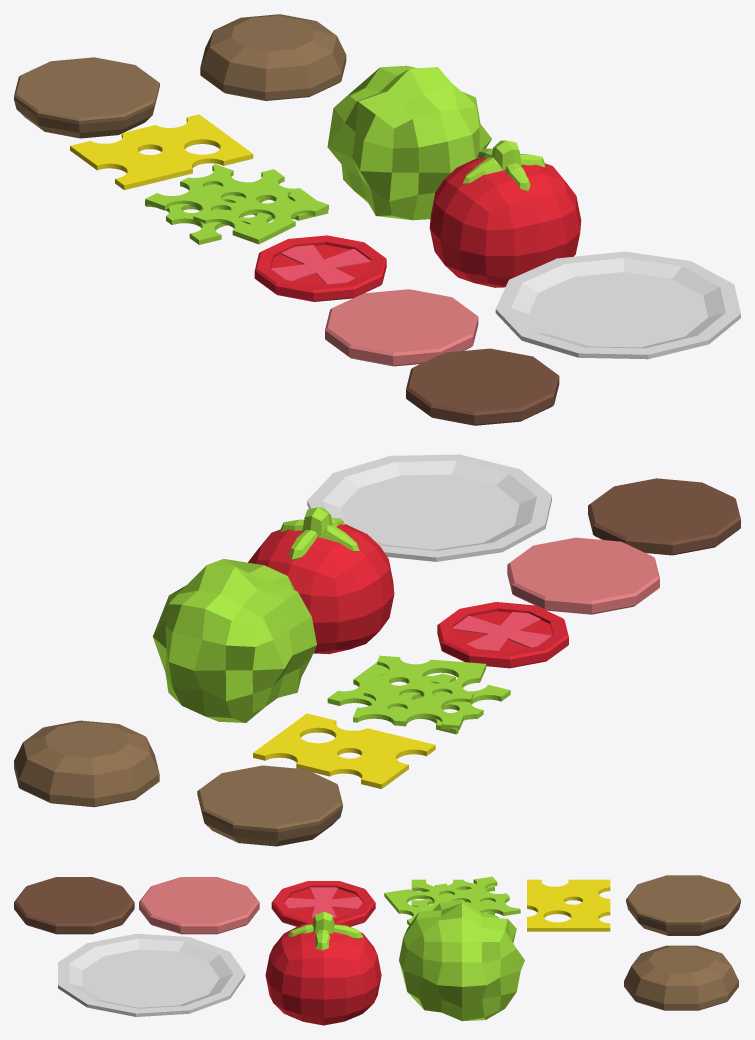
File: Food 1.fbx
The picture shows the model from 3 angles, top to bottom: view 1: azimuth 30°, elevation 25°; view 2: azimuth 150°, elevation 25°; view 3: azimuth 270°, elevation 25°; orthographic projection. The views are drawn at different scales.
Visible parts, largest first — view 1: Cylinder.005, Cube.004, Cube.003, Cylinder.002, Cylinder.003, Cylinder.001, Cylinder, Cube.002, Cylinder.004, Cube.001; view 2: Cube.004, Cylinder.005, Cube.003, Cylinder.002, Cylinder, Cylinder.001, Cylinder.003, Cube.002, Cylinder.004, Cube.001; view 3: Cylinder.005, Cube.004, Cube.003, Cylinder.002, Cylinder, Cylinder.003, Cylinder.001, Cube.001, Cylinder.004, Cube.002.
Part boxes in pixels (x1=…): Cylinder.005: x1=495, y1=251, x2=740, y2=359; Cube.004: x1=327, y1=65, x2=491, y2=220; Cube.003: x1=429, y1=140, x2=581, y2=287; Cylinder.002: x1=200, y1=14, x2=346, y2=100; Cylinder.003: x1=406, y1=348, x2=559, y2=425; Cylinder.001: x1=14, y1=57, x2=159, y2=138; Cylinder: x1=325, y1=289, x2=478, y2=366; Cube.002: x1=145, y1=164, x2=328, y2=244; Cylinder.004: x1=254, y1=235, x2=386, y2=301; Cube.001: x1=70, y1=114, x2=253, y2=190; Cube.004: x1=152, y1=559, x2=316, y2=722; Cylinder.005: x1=307, y1=454, x2=551, y2=561; Cube.003: x1=248, y1=507, x2=394, y2=654; Cylinder.002: x1=14, y1=720, x2=159, y2=807; Cylinder: x1=507, y1=537, x2=659, y2=614; Cylinder.001: x1=197, y1=765, x2=342, y2=846; Cylinder.003: x1=588, y1=478, x2=740, y2=555; Cube.002: x1=327, y1=655, x2=510, y2=734; Cylinder.004: x1=437, y1=602, x2=568, y2=668; Cube.001: x1=253, y1=713, x2=435, y2=788; Cylinder.005: x1=58, y1=933, x2=245, y2=1016; Cube.004: x1=399, y1=899, x2=524, y2=1021; Cube.003: x1=265, y1=911, x2=381, y2=1025; Cylinder.002: x1=624, y1=945, x2=738, y2=1010; Cylinder: x1=139, y1=877, x2=259, y2=934; Cylinder.003: x1=14, y1=877, x2=134, y2=934; Cylinder.001: x1=626, y1=875, x2=740, y2=935; Cube.001: x1=527, y1=879, x2=610, y2=931; Cylinder.004: x1=271, y1=881, x2=375, y2=926; Cube.002: x1=384, y1=876, x2=520, y2=925.
Size of the model in its own units: 554 by 220 by 1266.
